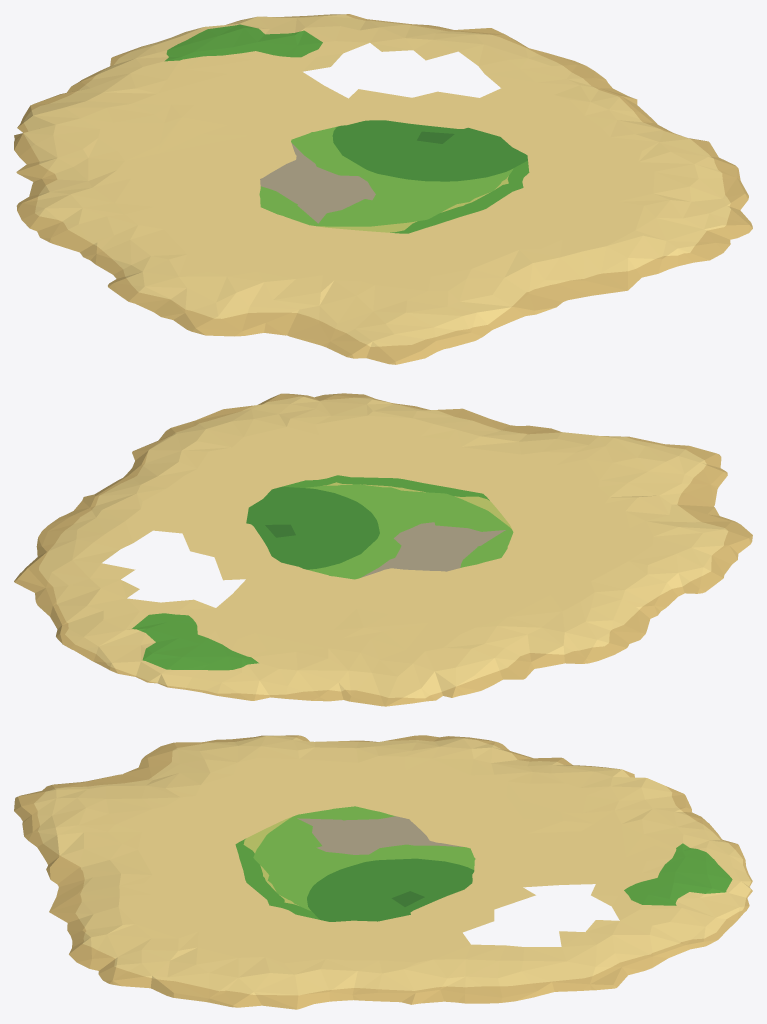
File: Isl-islet6-Ground.fbx
3 renders of one model, top to bottom at view 1: azimuth 30°, elevation 25°; view 2: azimuth 150°, elevation 25°; view 3: azimuth 270°, elevation 25°, orthographic. The views are drawn at different scales.
Parts seen in each view (by area): view 1: Isl-islet6-Ground-c11, Isl-islet6-Ground-c12, Isl-islet6-Ground-c21, Isl-islet6-Ground-c22; view 2: Isl-islet6-Ground-c12, Isl-islet6-Ground-c11, Isl-islet6-Ground-c22, Isl-islet6-Ground-c21; view 3: Isl-islet6-Ground-c12, Isl-islet6-Ground-c11, Isl-islet6-Ground-c22, Isl-islet6-Ground-c21.
Boxes of the visible parts, bbox=[...] form: Isl-islet6-Ground-c11: bbox=[95, 176, 567, 364]; Isl-islet6-Ground-c12: bbox=[14, 27, 409, 264]; Isl-islet6-Ground-c21: bbox=[410, 120, 752, 301]; Isl-islet6-Ground-c22: bbox=[199, 14, 657, 176]; Isl-islet6-Ground-c12: bbox=[157, 520, 665, 706]; Isl-islet6-Ground-c11: bbox=[370, 425, 752, 607]; Isl-islet6-Ground-c22: bbox=[14, 475, 369, 685]; Isl-islet6-Ground-c21: bbox=[123, 393, 516, 520]; Isl-islet6-Ground-c12: bbox=[340, 735, 752, 886]; Isl-islet6-Ground-c11: bbox=[14, 735, 358, 886]; Isl-islet6-Ground-c22: bbox=[344, 868, 752, 1004]; Isl-islet6-Ground-c21: bbox=[49, 868, 357, 1009].
Size of the model in its own units: 21.9 by 0.4888 by 24.94.
